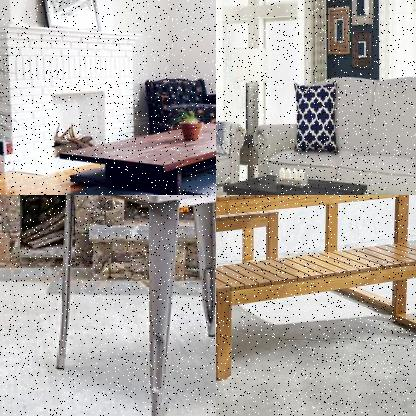table: (22, 195, 215, 415), (216, 195, 415, 362), (54, 115, 215, 194), (221, 166, 370, 194)
